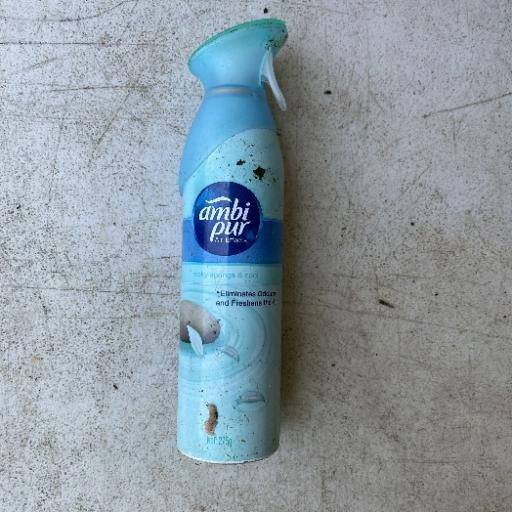Metal: (174, 17, 290, 465)
